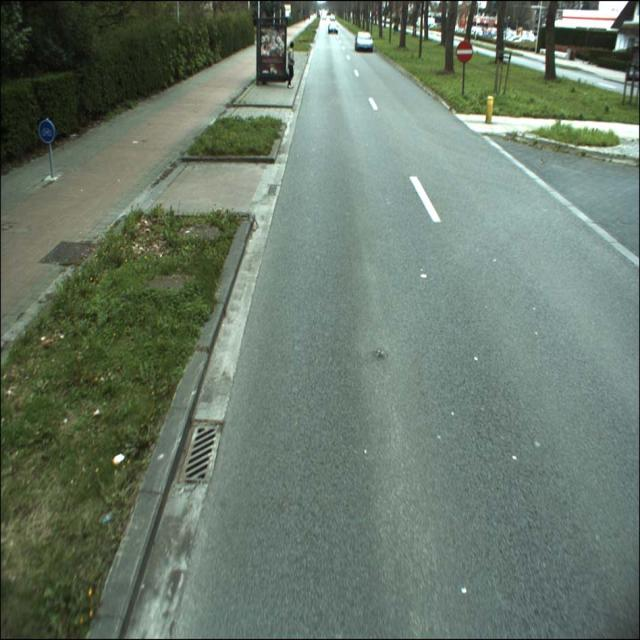girisyok: (456, 41, 474, 64)
